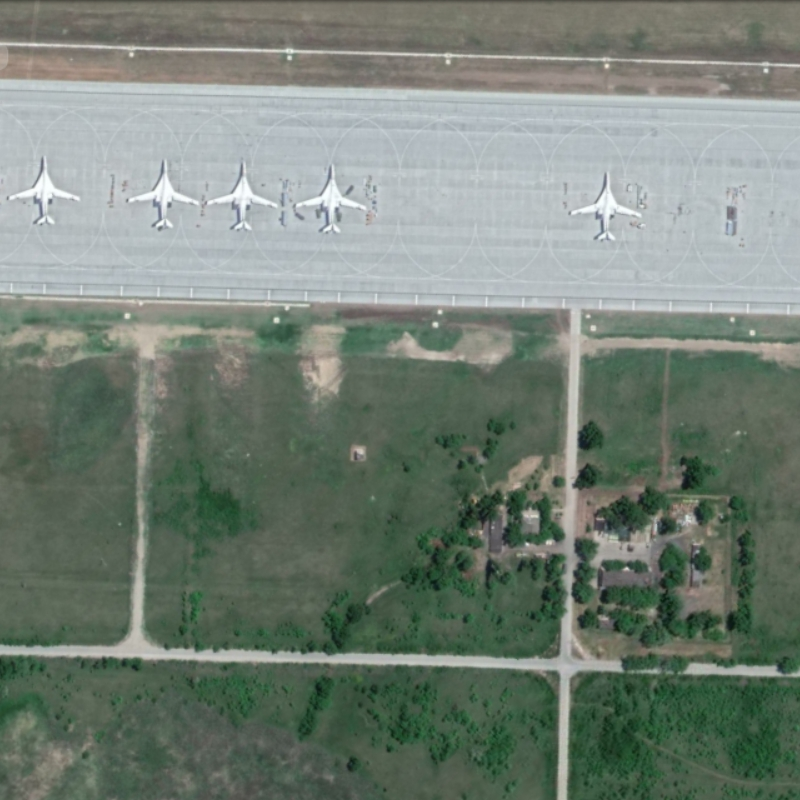A6: (565, 168, 645, 245), (291, 161, 371, 237), (124, 156, 203, 232), (204, 157, 280, 234), (5, 153, 84, 227)
